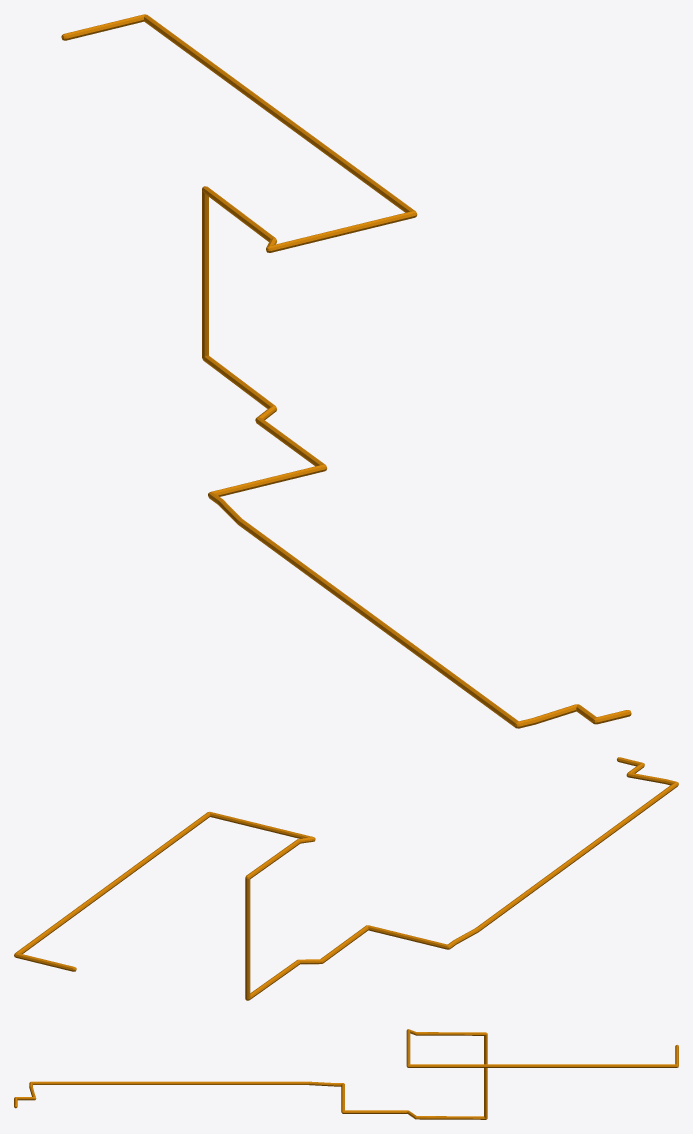
The picture shows the model from 3 angles, top to bottom: view 1: azimuth 30°, elevation 25°; view 2: azimuth 150°, elevation 25°; view 3: azimuth 270°, elevation 25°; orthographic projection. The views are drawn at different scales.
Bounding box in the file's own units: 871 × 520 × 3589.
